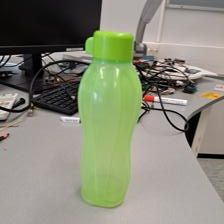bottle: (69, 30, 142, 206)
